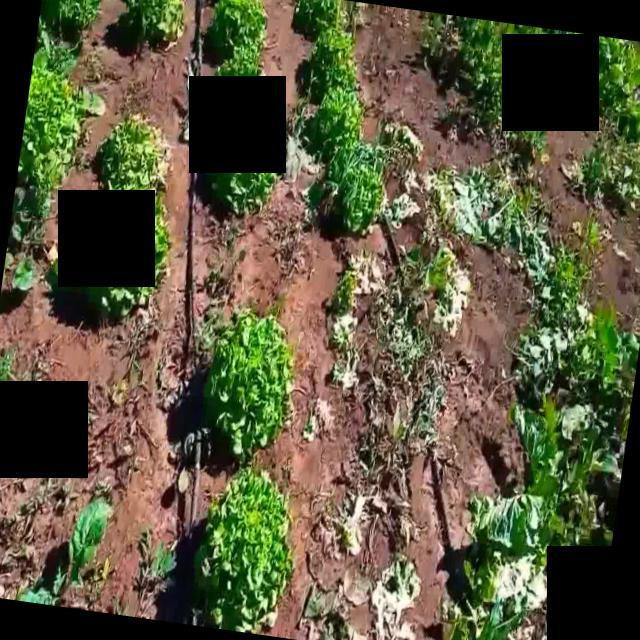Lettuce: (192, 472, 288, 632), (52, 216, 171, 324), (208, 301, 286, 463), (310, 147, 392, 236), (94, 112, 170, 198), (298, 89, 374, 150), (199, 162, 278, 216), (303, 26, 354, 97), (200, 0, 266, 50), (125, 0, 189, 45), (291, 0, 363, 34), (213, 42, 265, 83)
